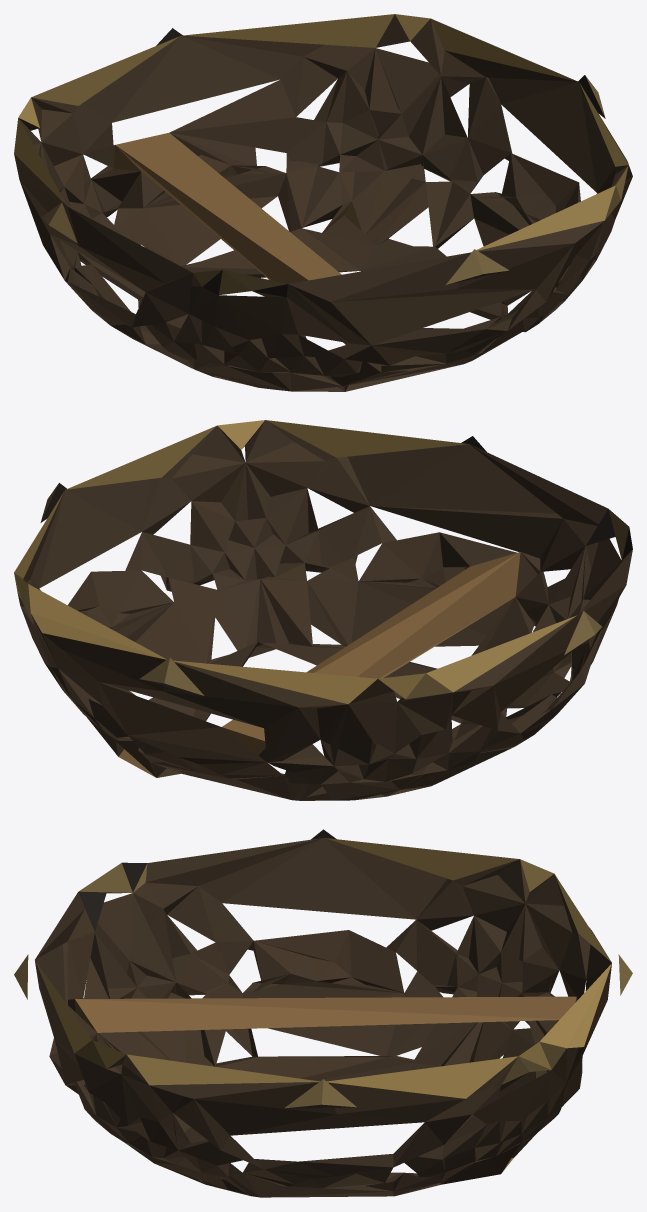
The model's file is thung_chai_flat_edits.far.glb.
3 views of the same model, one above another, from view 1: azimuth 30°, elevation 25°; view 2: azimuth 150°, elevation 25°; view 3: azimuth 270°, elevation 25° (orthographic). The views are drawn at different scales.
Visible parts, largest first — view 1: thung_chai_flat_edits; view 2: thung_chai_flat_edits; view 3: thung_chai_flat_edits.
Part boxes in pixels (bbox=[...]): thung_chai_flat_edits: bbox=[14, 14, 632, 391]; thung_chai_flat_edits: bbox=[14, 420, 632, 800]; thung_chai_flat_edits: bbox=[14, 829, 632, 1197].
Size of the model in its own units: 1.84 by 0.6103 by 1.84.
